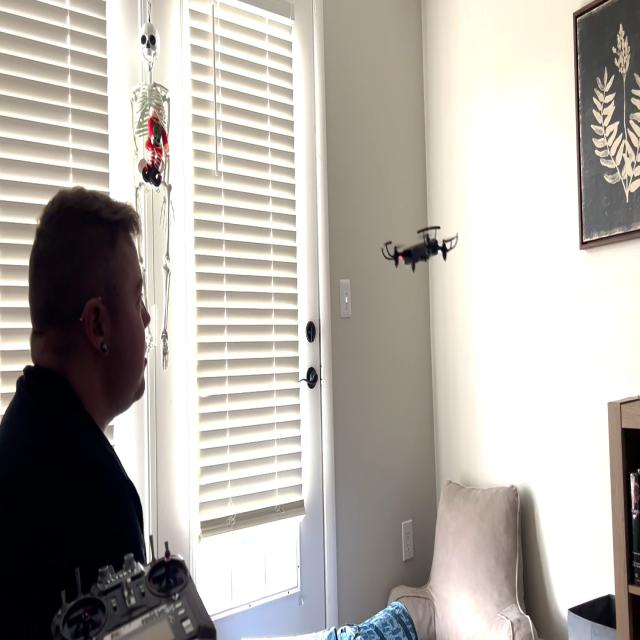drone: (377, 216, 466, 280)
